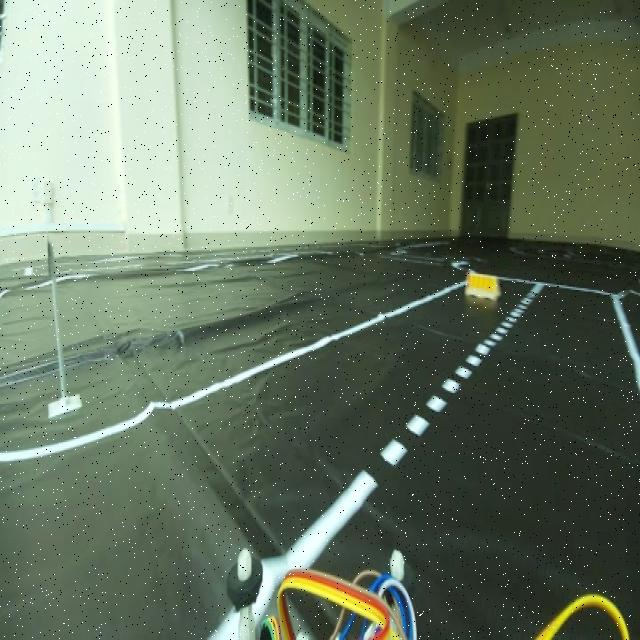roadblock: (461, 258, 506, 311)
